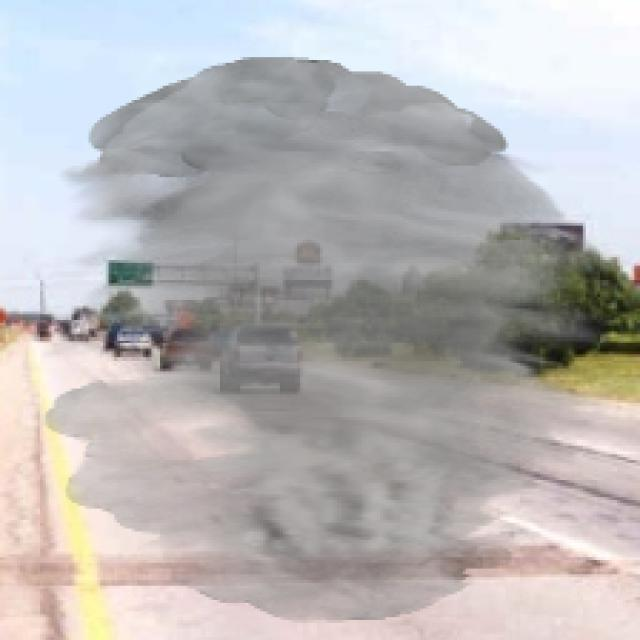smoke: (43, 57, 611, 623)
